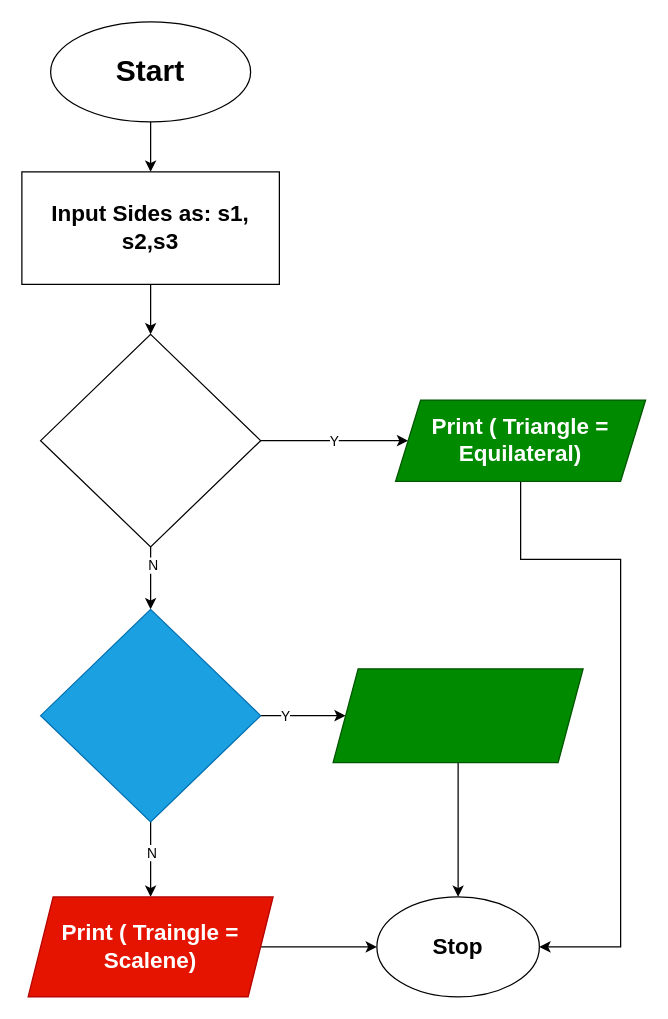
This 668x1019 diagram has some shape labels left out. The shapes that lost their labels are listed below. From the top down, each one's box as (x1, y1, x2, y2) in pixels, then its label:
(39, 333, 261, 547): if s1 == s2 and s1 == s3
(39, 608, 261, 822): if s1 == s2 or s1 == s3
(332, 668, 583, 762): Print ( Triangle = Isosceles)
